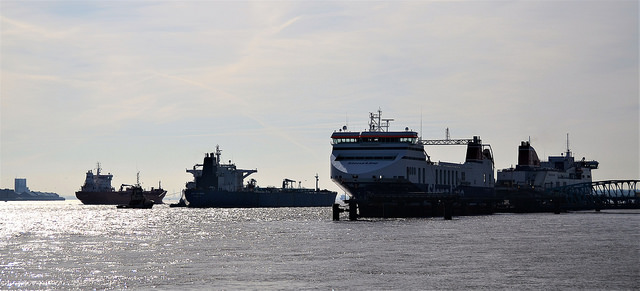PCC: (330, 105, 504, 196)
tanker: (180, 146, 337, 213), (75, 166, 165, 204)
tug_boat: (117, 172, 157, 211)
